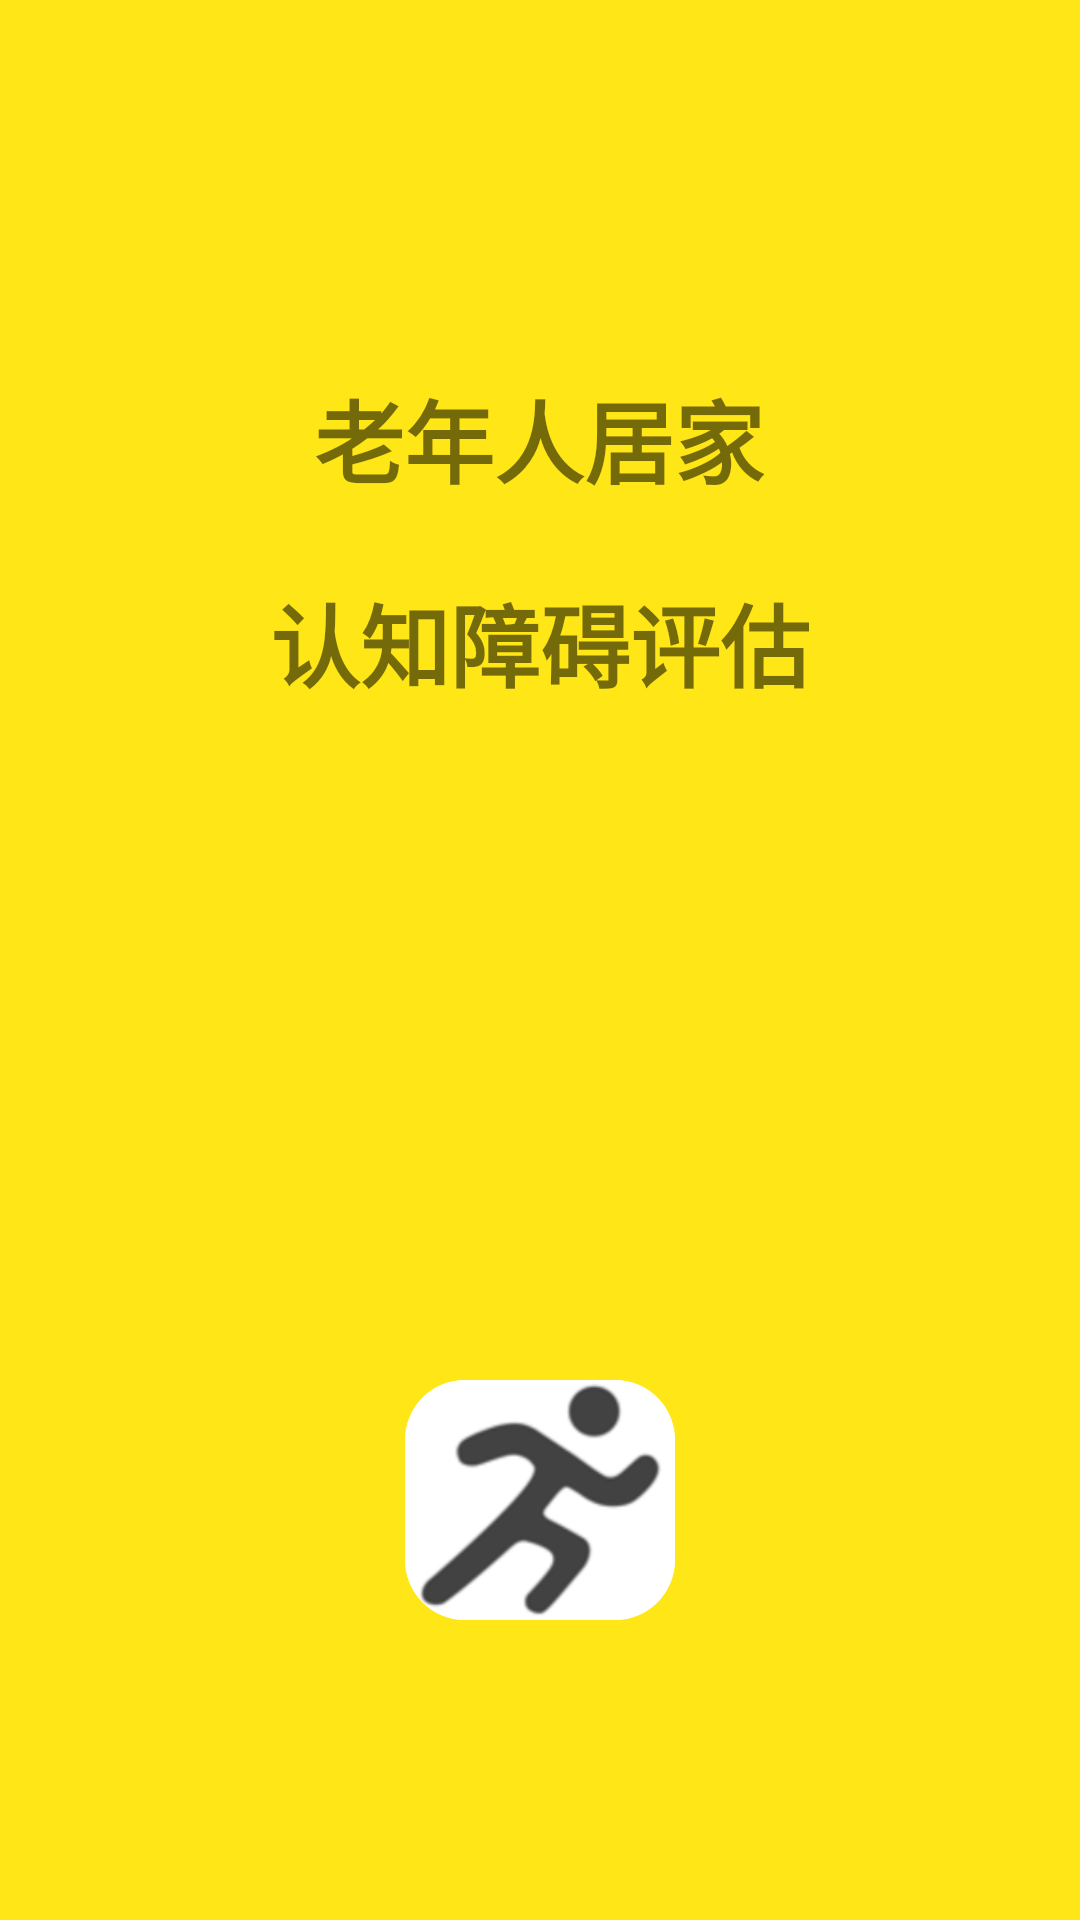

Locate icon controls on the screen. Image size 1080px x 1920px, boxes as {"left": x1, "top": y1, "right": x2, "bottom": y2}.
titleicon: {"left": 405, "top": 1380, "right": 675, "bottom": 1620}
